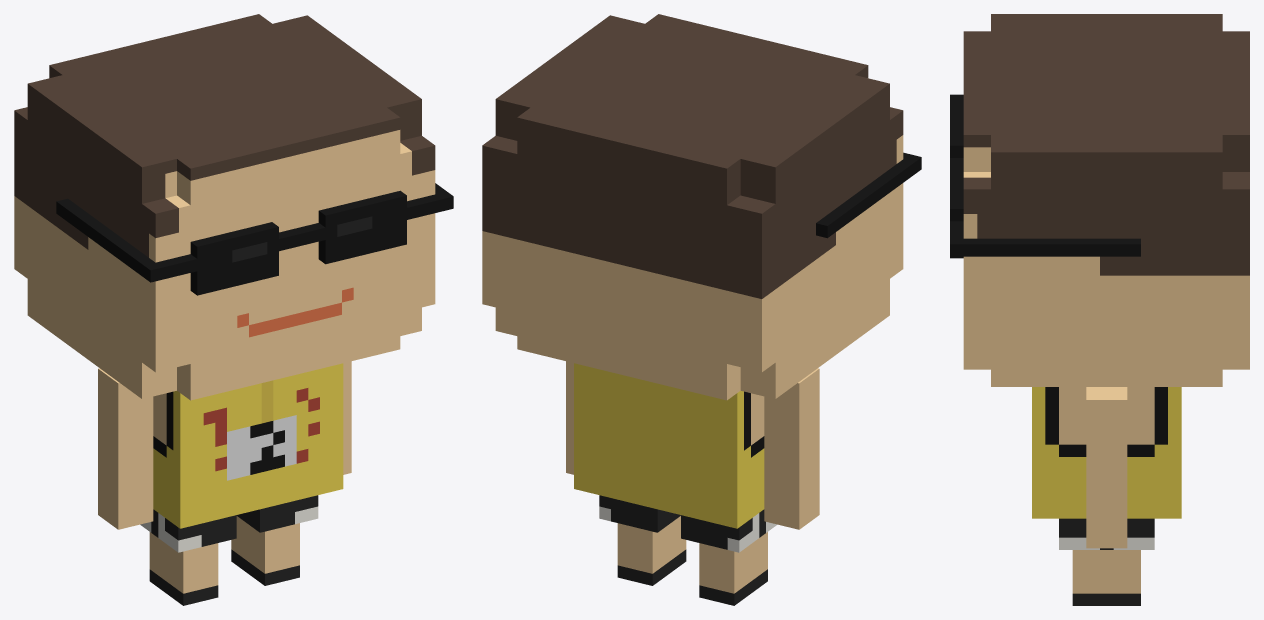
File: bloodynips.obj
The picture shows the model from 3 angles, left to right: view 1: azimuth 30°, elevation 25°; view 2: azimuth 150°, elevation 25°; view 3: azimuth 270°, elevation 25°; orthographic projection.
Bounding box in the file's own units: 2.6 × 4 × 2.2.
Materials: 1 (1 with a texture image).
